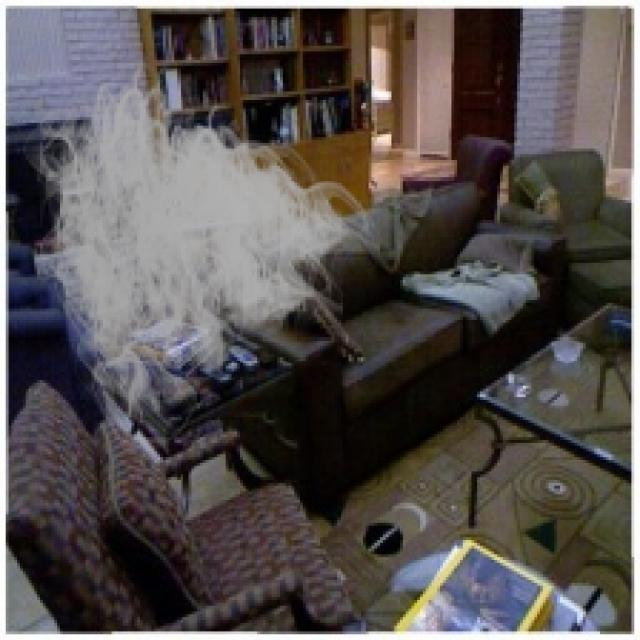smoke: (14, 49, 380, 460)
